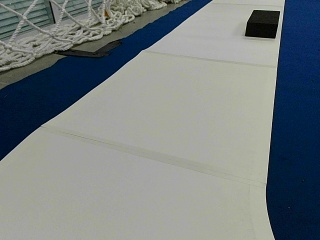block: (245, 9, 280, 37)
